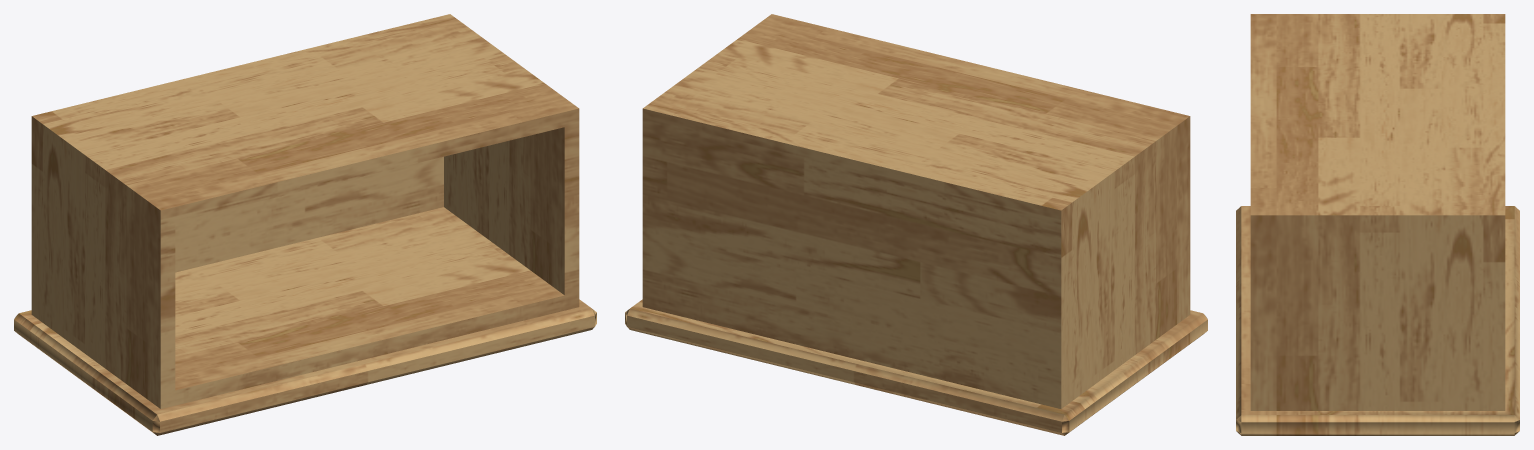
Rendered from DrawermeshDresserDrawer_218_4_4.obj.
The picture shows the model from 3 angles, left to right: view 1: azimuth 30°, elevation 25°; view 2: azimuth 150°, elevation 25°; view 3: azimuth 270°, elevation 25°; orthographic projection.
Parts seen in each view (by area): view 1: DresserDrawer_218_4; view 2: DresserDrawer_218_4; view 3: DresserDrawer_218_4.
Part boxes in pixels (x1,y1,x2,y2): DresserDrawer_218_4: [14, 14, 596, 435]; DresserDrawer_218_4: [625, 14, 1207, 435]; DresserDrawer_218_4: [1236, 14, 1519, 435].
Bounding box in the file's own units: 0.758 × 0.3586 × 0.4256.
